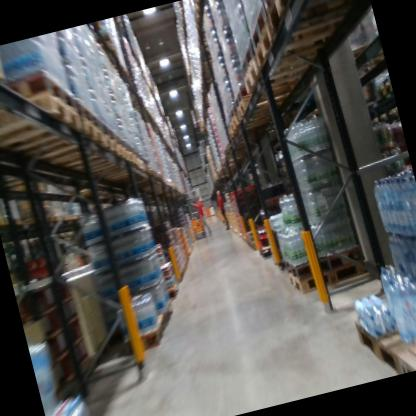pallet_truck: (246, 0, 353, 80), (235, 30, 347, 94), (345, 275, 416, 375), (0, 60, 78, 131), (11, 113, 107, 170), (0, 88, 85, 152), (262, 0, 375, 45), (283, 227, 364, 283), (34, 131, 124, 178), (227, 93, 302, 138), (287, 254, 372, 293), (232, 82, 300, 122), (119, 311, 175, 357), (182, 184, 208, 240), (0, 46, 17, 97), (390, 342, 416, 372)
